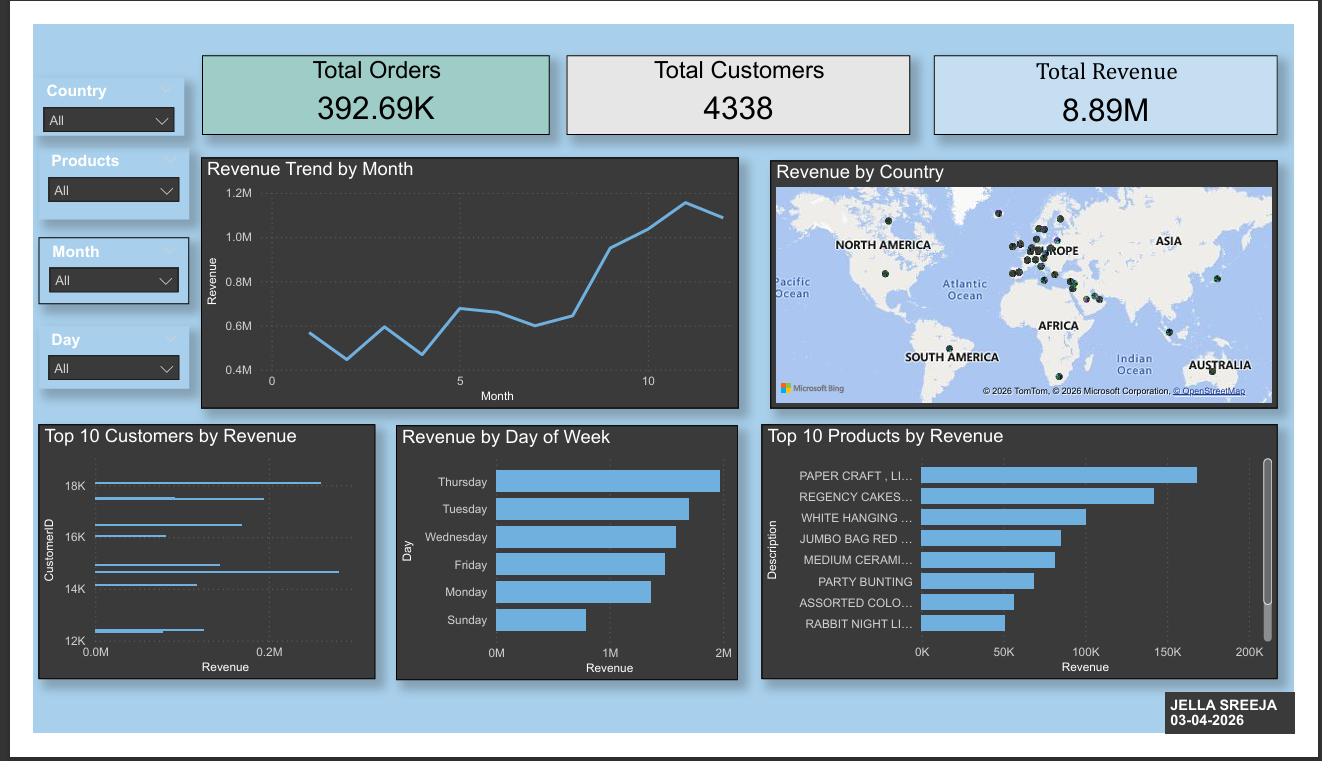

What the dashboard file says about the page in this screenshot:
{"tool":"powerbi","page":{"name":"Online Retail Overview","canvas":[1280,720],"ordinal":0},"visuals":[{"type":"card","title":"Total  Revenue","fields":{"Values":["Sum(cleaned_online_retail.Revenue)"]},"box":[914.1,30.7,348.5,81],"z":0},{"type":"slicer","fields":{"Values":["cleaned_online_retail.Country"]},"box":[0,53.8,152.5,58.8],"z":1000},{"type":"card","title":"Total Orders","fields":{"Values":["CountNonNull(cleaned_online_retail.InvoiceNo)"]},"box":[170.6,30.7,353.4,81],"z":2000},{"type":"slicer","fields":{"Values":["cleaned_online_retail.Description"]},"box":[5,125,152.5,72.5],"z":3000},{"type":"card","title":"Total Customers","fields":{"Values":["Count(cleaned_online_retail.CustomerID)"]},"box":[541.1,30.7,348.5,81],"z":4000},{"type":"slicer","fields":{"Values":["cleaned_online_retail.Month Name"]},"box":[5,216.2,152.5,67.5],"z":5000},{"type":"lineChart","title":"Revenue Trend by Month","fields":{"Y":["Sum(cleaned_online_retail.Revenue)"],"Category":["cleaned_online_retail.Month"]},"box":[170,135,546.2,255],"z":6000},{"type":"slicer","fields":{"Values":["cleaned_online_retail.Day"]},"box":[5,306.2,152.5,63.8],"z":7000},{"type":"clusteredBarChart","title":"Top 10 Products by Revenue","fields":{"Category":["cleaned_online_retail.Description"],"Y":["Sum(cleaned_online_retail.Revenue)"]},"box":[738.7,406.1,523.9,258.9],"z":8000},{"type":"barChart","title":"Top 10 Customers by Revenue","fields":{"Category":["cleaned_online_retail.CustomerID"],"Y":["Sum(cleaned_online_retail.Revenue)"]},"box":[4.9,406.1,342.3,258.9],"z":9000},{"type":"clusteredBarChart","title":"Revenue by Day of Week","fields":{"Category":["cleaned_online_retail.Day"],"Y":["Sum(cleaned_online_retail.Revenue)"]},"box":[368.1,407.4,347.2,258.9],"z":10000},{"type":"map","title":"Revenue by Country","fields":{"Category":["cleaned_online_retail.Country"],"Series":["cleaned_online_retail.Revenue"]},"box":[747.5,137.5,515,252.5],"z":11000},{"type":"textbox","box":[1148.8,677.5,131.2,42.5],"z":13000}]}

Visuals, with their boxes in screenshot pixels (x1, y1, x2, y2), scaled from the page's 1280x720 canvas onto the 1322x761 screenshot:
"Total  Revenue" card: x1=944, y1=32, x2=1304, y2=118
slicer - cleaned_online_retail.Country: x1=0, y1=57, x2=158, y2=119
"Total Orders" card: x1=176, y1=32, x2=541, y2=118
slicer - cleaned_online_retail.Description: x1=5, y1=132, x2=163, y2=209
"Total Customers" card: x1=559, y1=32, x2=919, y2=118
slicer - cleaned_online_retail.Month Name: x1=5, y1=229, x2=163, y2=300
"Revenue Trend by Month" lineChart: x1=176, y1=143, x2=740, y2=412
slicer - cleaned_online_retail.Day: x1=5, y1=324, x2=163, y2=391
"Top 10 Products by Revenue" clusteredBarChart: x1=763, y1=429, x2=1304, y2=703
"Top 10 Customers by Revenue" barChart: x1=5, y1=429, x2=359, y2=703
"Revenue by Day of Week" clusteredBarChart: x1=380, y1=431, x2=739, y2=704
"Revenue by Country" map: x1=772, y1=145, x2=1304, y2=412
textbox: x1=1186, y1=716, x2=1321, y2=760
